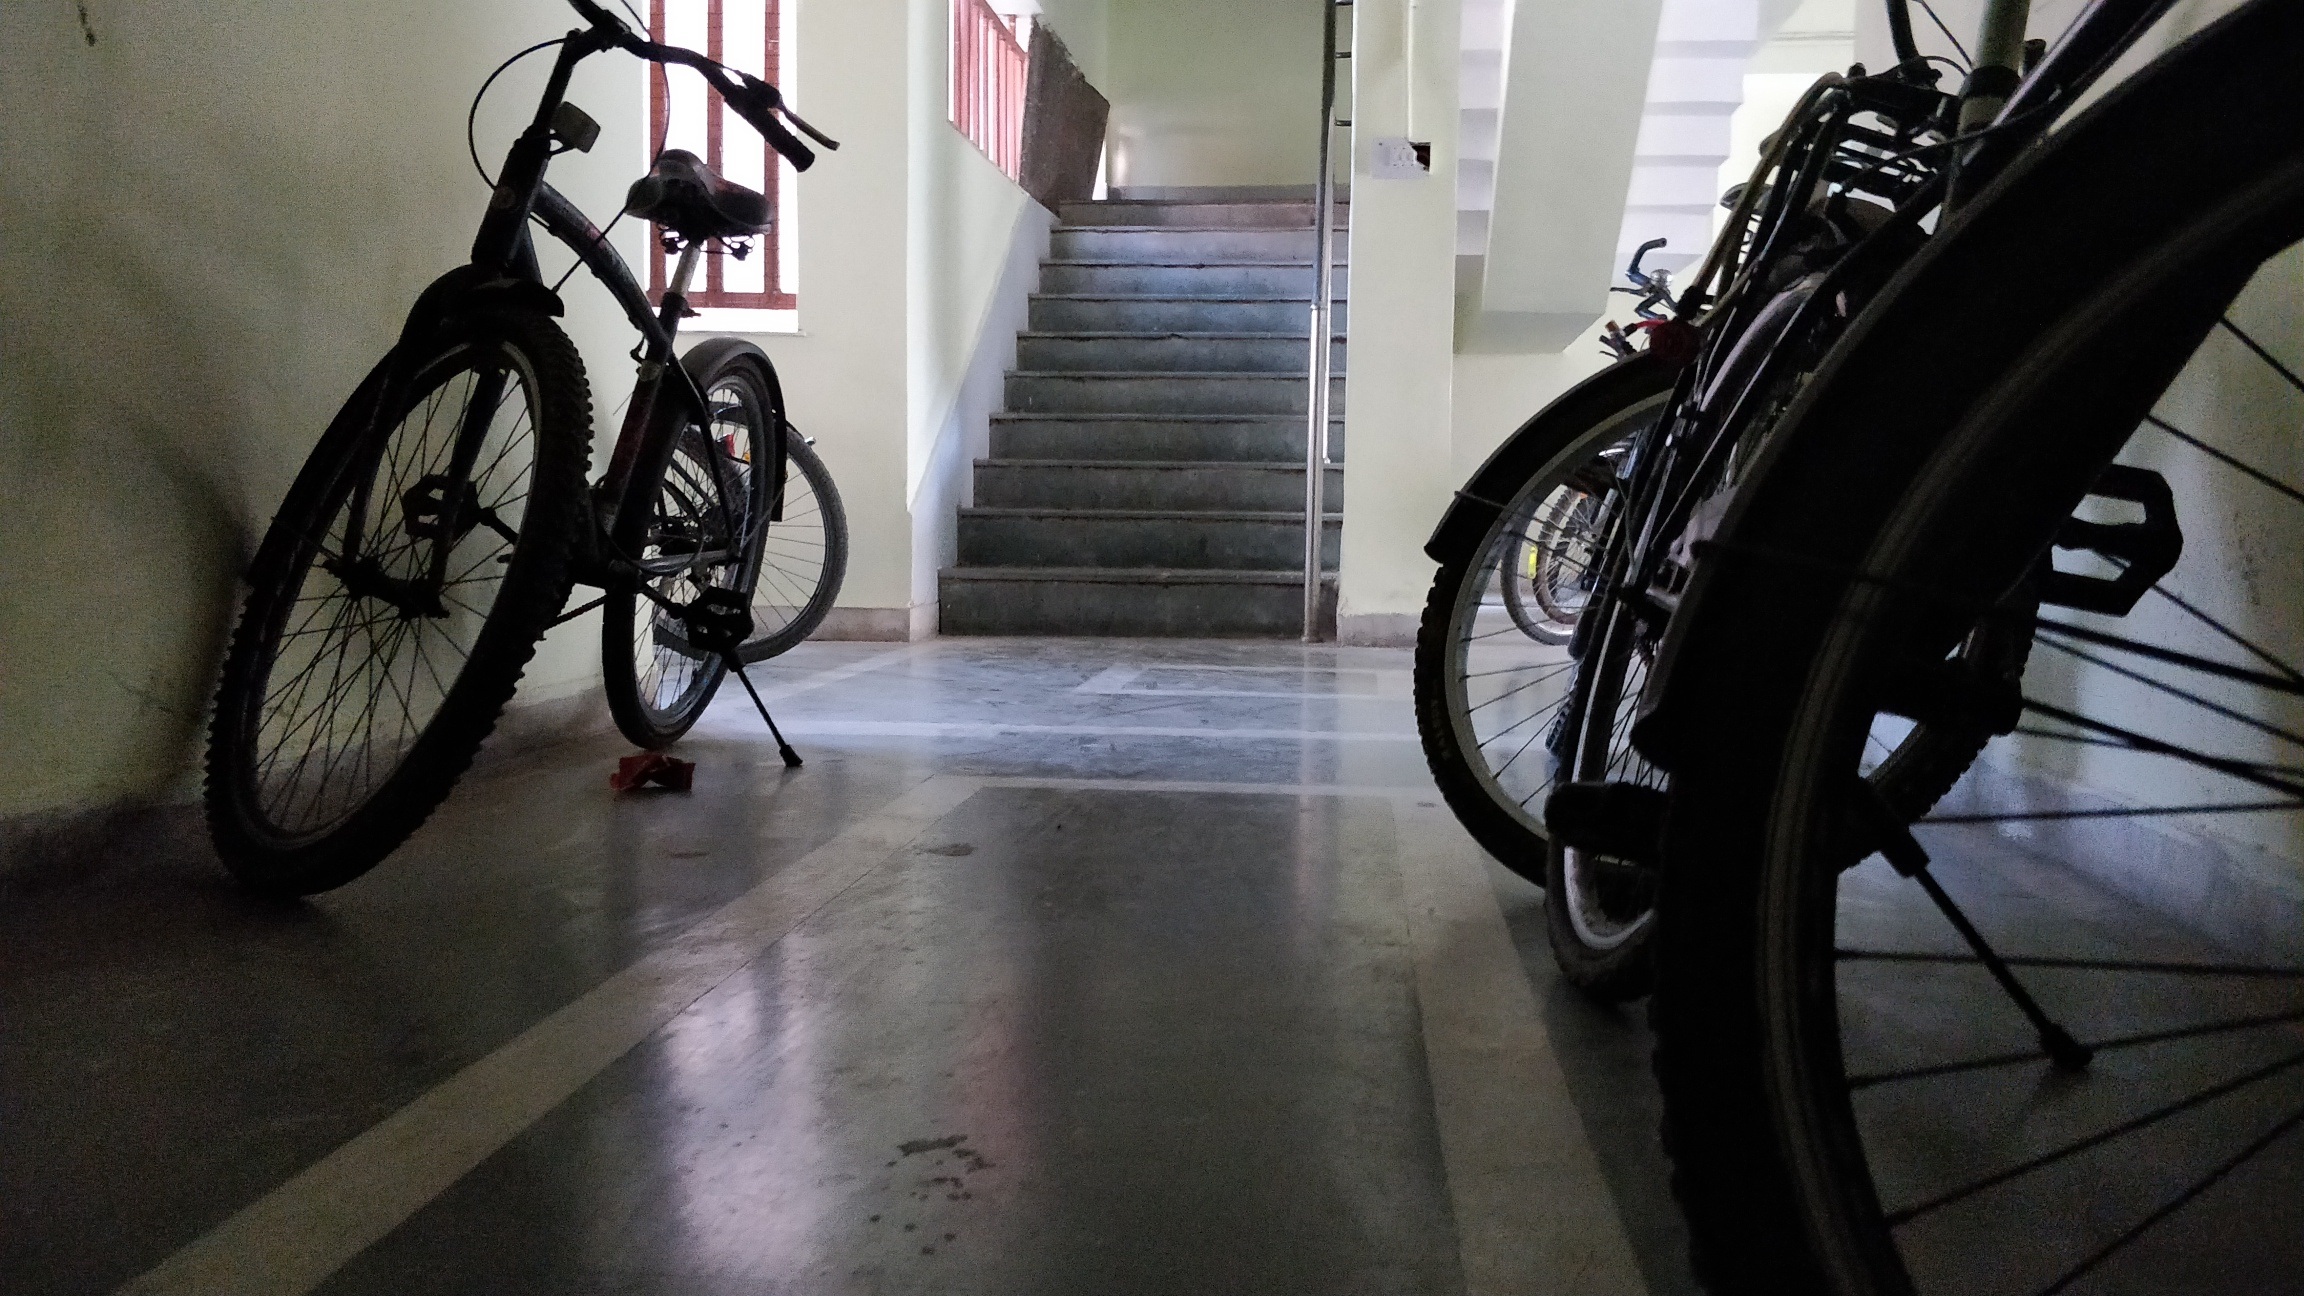stairs_up: (945, 195, 1336, 631)
